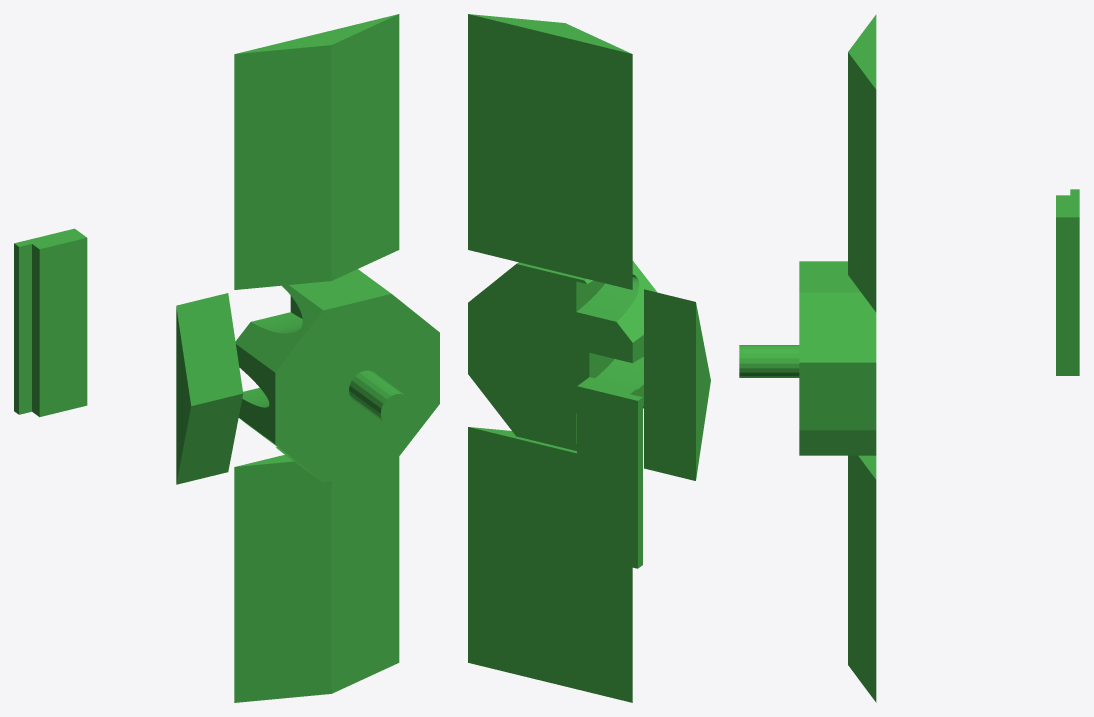
The model's file is powell2.obj.
3 views of the same model, side by side, from view 1: azimuth 30°, elevation 25°; view 2: azimuth 150°, elevation 25°; view 3: azimuth 270°, elevation 25° (orthographic). The views are drawn at different scales.
Parts seen in each view (by area): view 1: obj_0; view 2: obj_0; view 3: obj_0.
Part boxes in pixels (left/top/right/bottom): obj_0: left=14, top=14, right=439, bottom=702; obj_0: left=468, top=14, right=710, bottom=702; obj_0: left=739, top=14, right=1079, bottom=702.
Size of the model in its own units: 64 by 143 by 72.
